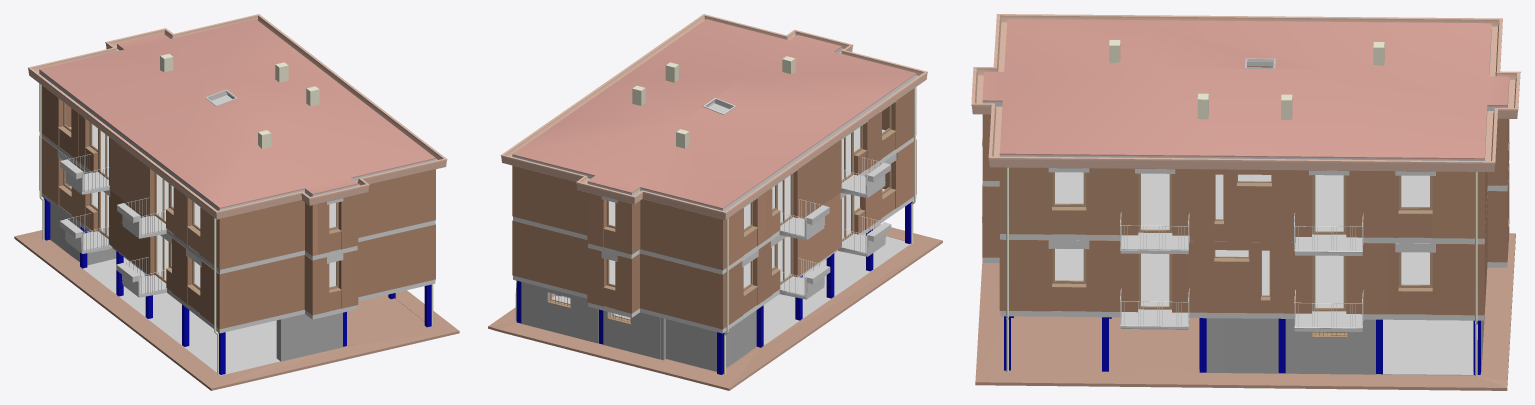
Rendered from asset.gltf.
3 views of the same model, side by side, from view 1: azimuth 30°, elevation 25°; view 2: azimuth 150°, elevation 25°; view 3: azimuth 270°, elevation 25° (orthographic). The views are drawn at different scales.
Parts seen in each view (by area): view 1: Tetto di base:LAMIERA:369181 #22917, Grondaia:Grondaia:217876 #17193, Pavimento:GROUND FLOOR:368046 #22426, Muro di base:BRICK WALL - 30 CM:210584 #9985, Muro di base:BRICK WALL - 30 CM:155659 #4564, Muro di base:BRICK WALL - 30 CM:155390 #4286, Muro di base:BRICK WALL - 30 CM:210122 #9702, Pavimento:CONCRETE FLOOR:209486 #8991, Pavimento:CONCRETE FLOOR:143836 #1878, Pavimento:GROUND FLOOR:366948 #21010, Muro di base:ROCKWALL - 43 cm:138993 #576, Muro di base:BRICK WALL - 30 CM:153290 #2543 (+26 smaller); view 2: Tetto di base:LAMIERA:369181 #22917, Grondaia:Grondaia:217876 #17193, Muro di base:BRICK WALL - 30 CM:211085 #10040, Muro di base:BRICK WALL - 30 CM:154308 #3228, Muro di base:BRICK WALL - 30 CM:154773 #3667, Muro di base:BRICK WALL - 30 CM:209823 #9235, Pavimento:GROUND FLOOR:368046 #22426, Pavimento:CONCRETE FLOOR:209486 #8991, Pavimento:CONCRETE FLOOR:143836 #1878, Muro di base:Generico - 30 cm:141089 #1265, Pavimento:GROUND FLOOR:366948 #21010, Muro di base:BRICK WALL - 30 CM:154167 #3157 (+26 smaller); view 3: Tetto di base:LAMIERA:369181 #22917, Grondaia:Grondaia:217876 #17193, Muro di base:BRICK WALL - 30 CM:155056 #3928, Muro di base:BRICK WALL - 30 CM:155268 #4211 (×2), Muro di base:BRICK WALL - 30 CM:209975 #9614, Pavimento:CONCRETE FLOOR:143836 #1878, Pavimento:CONCRETE FLOOR:209486 #8991, Muro di base:BRICK WALL - 30 CM:318318 #20325, Muro di base:BRICK WALL - 30 CM:209877 #9296, Pavimento:GROUND FLOOR:366948 #21138, Pavimento:GROUND FLOOR:368501 #22493, Pavimento:GROUND FLOOR:366196 #20674 (+26 smaller).
Boxes of the visible parts, left/top/right/bottom form: Tetto di base:LAMIERA:369181 #22917: left=39, top=19, right=435, bottom=208; Grondaia:Grondaia:217876 #17193: left=28, top=14, right=447, bottom=219; Pavimento:GROUND FLOOR:368046 #22426: left=83, top=257, right=279, bottom=375; Muro di base:BRICK WALL - 30 CM:210584 #9985: left=216, top=200, right=304, bottom=269; Muro di base:BRICK WALL - 30 CM:155659 #4564: left=225, top=255, right=304, bottom=327; Muro di base:BRICK WALL - 30 CM:155390 #4286: left=357, top=226, right=430, bottom=297; Muro di base:BRICK WALL - 30 CM:210122 #9702: left=358, top=170, right=430, bottom=237; Pavimento:CONCRETE FLOOR:209486 #8991: left=41, top=95, right=435, bottom=273; Pavimento:CONCRETE FLOOR:143836 #1878: left=41, top=186, right=435, bottom=333; Pavimento:GROUND FLOOR:366948 #21010: left=14, top=236, right=211, bottom=390; Muro di base:ROCKWALL - 43 cm:138993 #576: left=276, top=312, right=342, bottom=361; Muro di base:BRICK WALL - 30 CM:153290 #2543: left=172, top=238, right=225, bottom=329; Tetto di base:LAMIERA:369181 #22917: left=512, top=19, right=916, bottom=208; Grondaia:Grondaia:217876 #17193: left=500, top=14, right=927, bottom=219; Muro di base:BRICK WALL - 30 CM:211085 #10040: left=640, top=199, right=726, bottom=270; Muro di base:BRICK WALL - 30 CM:154308 #3228: left=640, top=253, right=717, bottom=327; Muro di base:BRICK WALL - 30 CM:154773 #3667: left=512, top=220, right=587, bottom=294; Muro di base:BRICK WALL - 30 CM:209823 #9235: left=512, top=165, right=587, bottom=235; Pavimento:GROUND FLOOR:368046 #22426: left=763, top=234, right=910, bottom=345; Pavimento:CONCRETE FLOOR:209486 #8991: left=513, top=103, right=913, bottom=274; Pavimento:CONCRETE FLOOR:143836 #1878: left=513, top=188, right=916, bottom=333; Muro di base:Generico - 30 cm:141089 #1265: left=521, top=282, right=598, bottom=343; Pavimento:GROUND FLOOR:366948 #21010: left=729, top=241, right=942, bottom=390; Muro di base:BRICK WALL - 30 CM:154167 #3157: left=717, top=241, right=771, bottom=329; Tetto di base:LAMIERA:369181 #22917: left=982, top=19, right=1509, bottom=159; Grondaia:Grondaia:217876 #17193: left=971, top=14, right=1520, bottom=172; Muro di base:BRICK WALL - 30 CM:155056 #3928: left=1190, top=241, right=1385, bottom=314; Muro di base:BRICK WALL - 30 CM:155268 #4211 (×2): left=999, top=239, right=1190, bottom=312; Muro di base:BRICK WALL - 30 CM:209975 #9614: left=999, top=167, right=1189, bottom=235; Pavimento:CONCRETE FLOOR:143836 #1878: left=983, top=248, right=1507, bottom=320; Pavimento:CONCRETE FLOOR:209486 #8991: left=982, top=172, right=1507, bottom=243; Muro di base:BRICK WALL - 30 CM:318318 #20325: left=1190, top=169, right=1295, bottom=242; Muro di base:BRICK WALL - 30 CM:209877 #9296: left=1363, top=171, right=1474, bottom=238; Pavimento:GROUND FLOOR:366948 #21138: left=975, top=372, right=1506, bottom=390; Pavimento:GROUND FLOOR:368501 #22493: left=1285, top=319, right=1474, bottom=375; Pavimento:GROUND FLOOR:366196 #20674: left=1005, top=321, right=1199, bottom=372.
Bounding box in the file's own units: 14.96 × 10.36 × 20.23.
